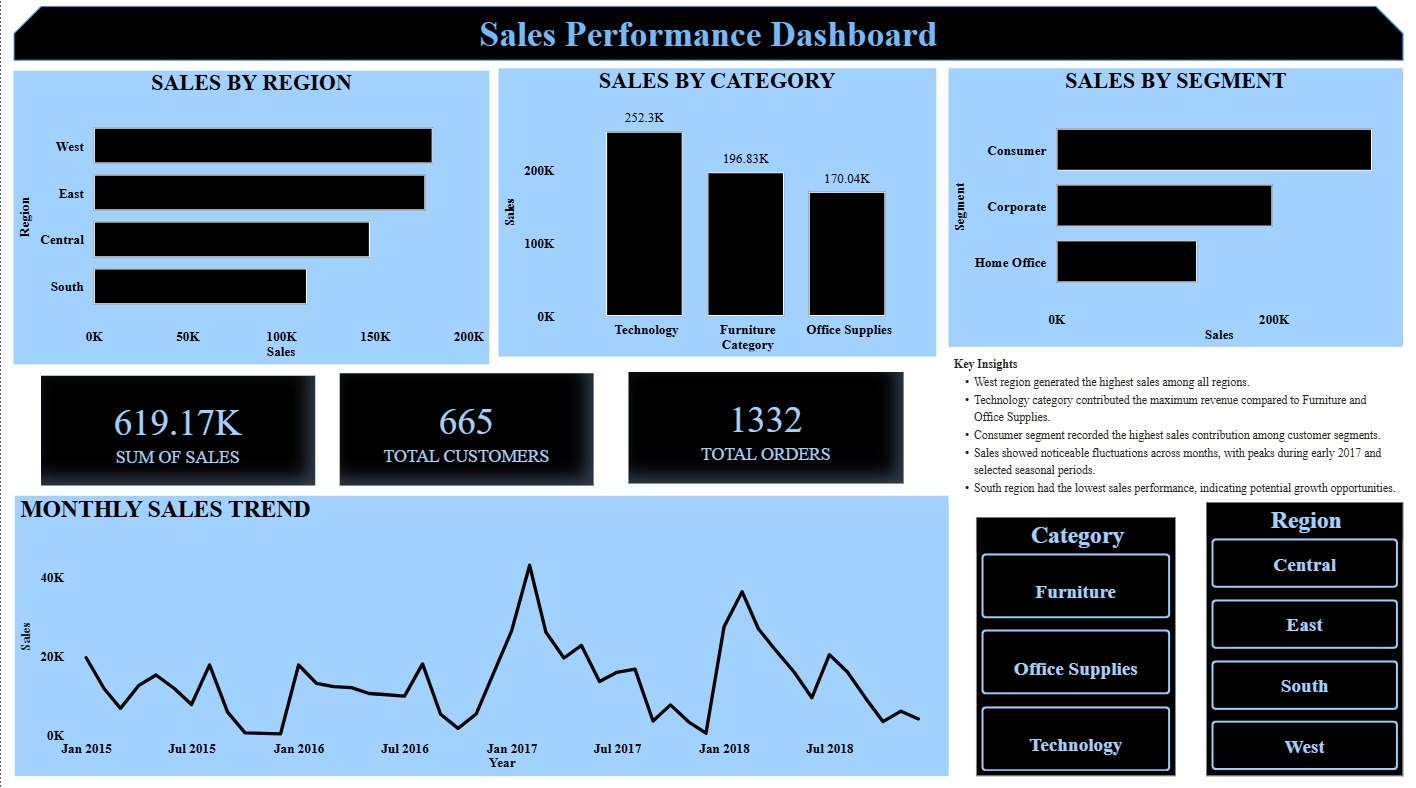

The page's visual inventory and layout, read from the dashboard file:
{"tool":"powerbi","page":{"name":"Page 1","canvas":[1280,720],"ordinal":0},"visuals":[{"type":"advancedSlicerVisual","fields":{"Values":["train.Category"]},"box":[881.9,474.9,180.9,234],"z":0},{"type":"columnChart","title":"SALES BY CATEGORY","fields":{"Category":["train.Category"],"Y":["Sum(train.Sales)"]},"box":[450,69,395.7,261.2],"z":1000},{"type":"card","fields":{"Values":["Sum(train.Sales)"]},"box":[36.2,347.1,247.6,99.5],"z":2000},{"type":"clusteredBarChart","title":"SALES BY REGION","fields":{"Category":["train.Region"],"Y":["Sum(train.Sales)"]},"box":[11.3,71.2,430.8,265.7],"z":3000},{"type":"advancedSlicerVisual","fields":{"Values":["train.Region"]},"box":[1090,461.3,178.6,247.6],"z":4000},{"type":"clusteredBarChart","title":"SALES BY SEGMENT","fields":{"Y":["Sum(train.Sales)"],"Category":["train.Segment"]},"box":[857,69,411.6,252.1],"z":5000},{"type":"lineChart","title":"MONTHLY SALES TREND","fields":{"Y":["Sum(train.Sales)"],"Category":["train.Order Date.Variation.Date Hierarchy.Year","train.Order Date.Variation.Date Hierarchy.Month"]},"box":[12.4,455.7,844.6,253.3],"z":6000},{"type":"card","fields":{"Values":["Count(train.Order ID)"]},"box":[567.6,343.7,248.7,100.6],"z":7000},{"type":"card","fields":{"Values":["Count(train.Customer ID)"]},"box":[306.4,344.9,229.5,101.8],"z":8000},{"type":"textbox","box":[857,321.1,411.6,140.2],"z":9000},{"type":"shape","box":[11.3,12.4,1257.3,49.7],"z":10000}]}

Visuals, with their boxes in screenshot pixels (x1, y1, x2, y2), scaled from the page's 1280x720 canvas onto the 1416x788 screenshot:
advancedSlicerVisual - train.Category: bbox=[976, 520, 1176, 776]
"SALES BY CATEGORY" columnChart: bbox=[498, 76, 936, 361]
card - Sum(train.Sales): bbox=[40, 380, 314, 489]
"SALES BY REGION" clusteredBarChart: bbox=[13, 78, 489, 369]
advancedSlicerVisual - train.Region: bbox=[1206, 505, 1403, 776]
"SALES BY SEGMENT" clusteredBarChart: bbox=[948, 76, 1403, 351]
"MONTHLY SALES TREND" lineChart: bbox=[14, 499, 948, 776]
card - Count(train.Order ID): bbox=[628, 376, 903, 486]
card - Count(train.Customer ID): bbox=[339, 377, 593, 489]
textbox: bbox=[948, 351, 1403, 505]
shape: bbox=[13, 14, 1403, 68]
